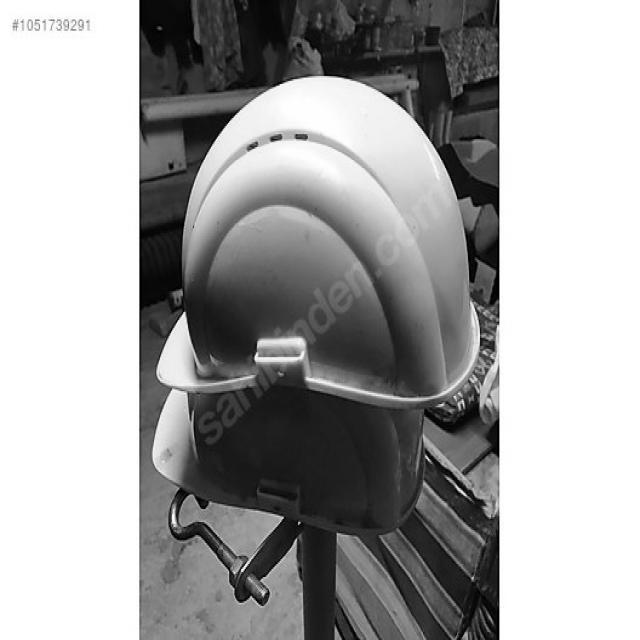safety_helmet: (161, 78, 481, 411)
